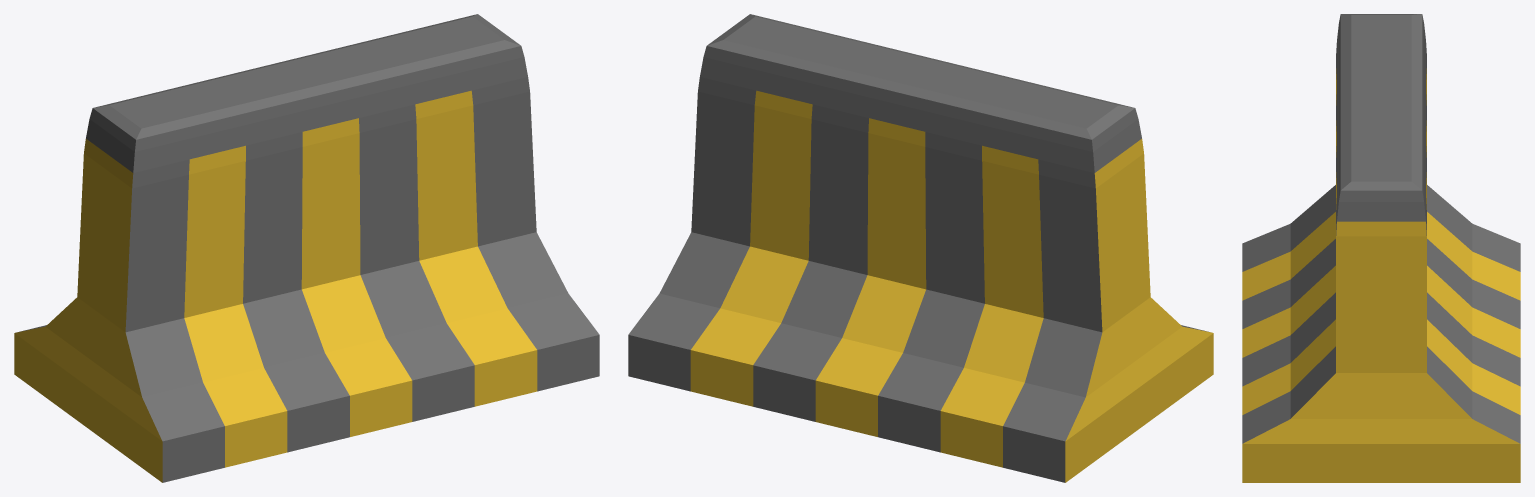
File: Barricade.fbx
3 views of the same model, side by side, from view 1: azimuth 30°, elevation 25°; view 2: azimuth 150°, elevation 25°; view 3: azimuth 270°, elevation 25° (orthographic). The views are drawn at different scales.
Visible parts, largest first — view 1: Barricade; view 2: Barricade; view 3: Barricade.
Boxes of the visible parts, bbox=[...] form: Barricade: bbox=[14, 14, 599, 482]; Barricade: bbox=[628, 14, 1213, 482]; Barricade: bbox=[1242, 14, 1520, 482].
Bounding box in the file's own units: 481 × 318 × 282.
